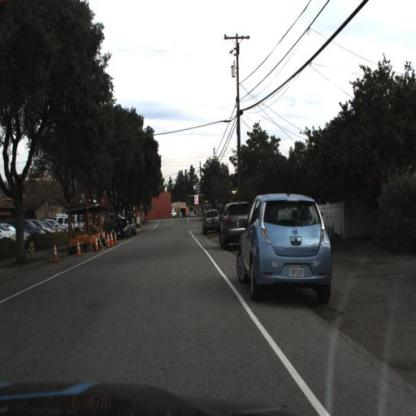car: (233, 180, 335, 316), (220, 201, 257, 253), (1, 220, 32, 252), (50, 214, 87, 240), (201, 208, 221, 240), (204, 209, 225, 234), (115, 219, 130, 238), (129, 219, 137, 236)
truck: (67, 211, 109, 253)
